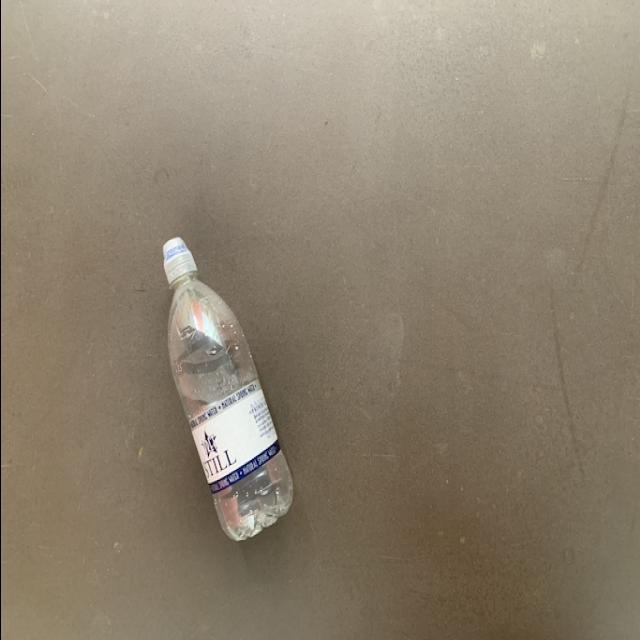PET: (157, 235, 297, 545)
